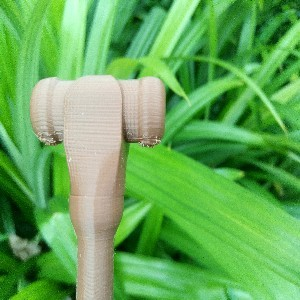palu: (29, 74, 167, 300)
